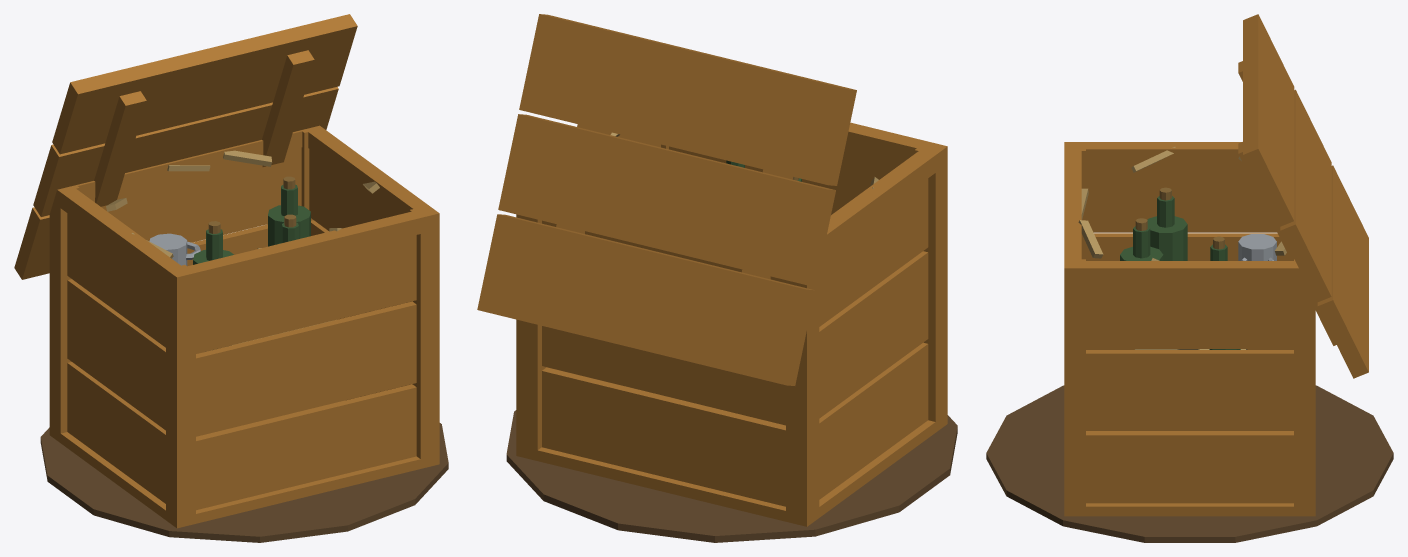
The model's file is SM_Crate_Tavern_02_Open.glb.
3 renders of one model, left to right at view 1: azimuth 30°, elevation 25°; view 2: azimuth 150°, elevation 25°; view 3: azimuth 270°, elevation 25°, orthographic. The views are drawn at different scales.
Parts seen in each view (by area): view 1: SM_Crate_Tavern_02_Open_Panels, SM_Crate_Tavern_02_Open_Frame, SM_Crate_Tavern_02_Open_LidHinge, SM_Crate_Tavern_02_Open_DirtRing, SM_Crate_Tavern_02_Open_Wisps, SM_Crate_Tavern_02_Open_Bottle2, SM_Crate_Tavern_02_Open_Tankard1; view 2: SM_Crate_Tavern_02_Open_LidHinge, SM_Crate_Tavern_02_Open_Panels, SM_Crate_Tavern_02_Open_Frame, SM_Crate_Tavern_02_Open_DirtRing; view 3: SM_Crate_Tavern_02_Open_Panels, SM_Crate_Tavern_02_Open_Frame, SM_Crate_Tavern_02_Open_LidHinge, SM_Crate_Tavern_02_Open_DirtRing, SM_Crate_Tavern_02_Open_Bottle0, SM_Crate_Tavern_02_Open_Wisps, SM_Crate_Tavern_02_Open_Tankard1, SM_Crate_Tavern_02_Open_Bottle1Neck, SM_Crate_Tavern_02_Open_Bottle0Neck.
Part boxes in pixels (box(x1,y1,x2,y2)): SM_Crate_Tavern_02_Open_Panels: box(67, 147, 416, 510); SM_Crate_Tavern_02_Open_Frame: box(49, 125, 439, 528); SM_Crate_Tavern_02_Open_LidHinge: box(14, 14, 357, 279); SM_Crate_Tavern_02_Open_DirtRing: box(40, 423, 448, 542); SM_Crate_Tavern_02_Open_Wisps: box(106, 150, 379, 258); SM_Crate_Tavern_02_Open_Bottle2: box(268, 205, 310, 246); SM_Crate_Tavern_02_Open_Tankard1: box(149, 233, 187, 265); SM_Crate_Tavern_02_Open_LidHinge: box(477, 14, 856, 385); SM_Crate_Tavern_02_Open_Panels: box(542, 135, 928, 506); SM_Crate_Tavern_02_Open_Frame: box(516, 122, 947, 526); SM_Crate_Tavern_02_Open_DirtRing: box(506, 410, 957, 542); SM_Crate_Tavern_02_Open_Panels: box(1086, 165, 1293, 503); SM_Crate_Tavern_02_Open_Frame: box(1064, 142, 1315, 516); SM_Crate_Tavern_02_Open_LidHinge: box(1238, 14, 1368, 378); SM_Crate_Tavern_02_Open_DirtRing: box(986, 385, 1393, 542); SM_Crate_Tavern_02_Open_Bottle0: box(1147, 216, 1187, 260); SM_Crate_Tavern_02_Open_Wisps: box(1078, 147, 1286, 260); SM_Crate_Tavern_02_Open_Tankard1: box(1238, 234, 1276, 260); SM_Crate_Tavern_02_Open_Bottle1Neck: box(1133, 226, 1150, 258); SM_Crate_Tavern_02_Open_Bottle0Neck: box(1157, 196, 1174, 227).
Size of the model in its own units: 0.8221 by 0.8627 by 0.8432.
